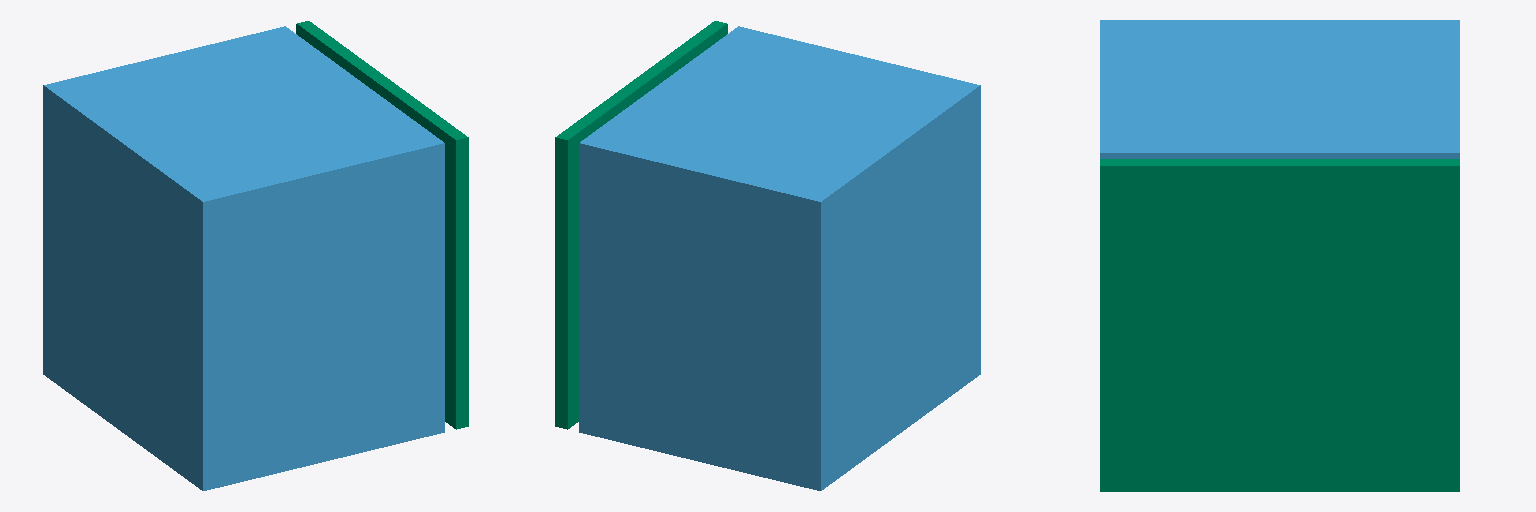
URDF robot description (my_cabinet):
<robot name="my_cabinet">

  <link name="world" />
  <joint name="virtual_joint" type="fixed">
    <parent link="world" />
    <child link = "base_door_link" />
    <origin xyz="0.0 0.0 0.0" rpy="0.0 0.0 0.0" />
  </joint>

  <link name="base_door_link">
    <inertial>
      <mass value="1.0" />
      <inertia  ixx="1.0" ixy="0.0"  ixz="0.0"  iyy="100.0"  iyz="0.0"  izz="1.0" />
    </inertial>
    <visual>
      <geometry>
        <box size="0.35 0.4 0.4" />
      </geometry>
    </visual>
  </link>

  <link name="door_link">
    <inertial>
      <mass value="0.2" />
      <inertia  ixx="1.0" ixy="0.0"  ixz="0.0"  iyy="100.0"  iyz="0.0"  izz="1.0" />
    </inertial>
    <visual>
  		<origin xyz="0.0 0.2 0"/>
      <geometry>
        <box size="0.018 0.4 0.4" />
      </geometry>
    </visual>
    <collision>
  		<origin xyz="0.0 0.2 0"/>
      <geometry>
        <box size="0.018 0.4 0.4" />
      </geometry>
    </collision>
  </link>

	<joint name="joint_0" type="revolute">
		<origin xyz="0.2 -0.2 0"/>
		<axis xyz="0 0 1"/>
		<parent link="base_door_link"/>
		<child link="door_link"/>
		<limit effort="100" lower="-3.14" upper="0" velocity="100" />
	</joint>


  <gazebo reference="my_cabinet">
    <material>Gazebo/Blue</material>
  </gazebo>
</robot>

--- What the picture shows (computed from the rendered views, not written in the file) ---
The picture shows the robot from 3 angles, left to right: view 1: azimuth 30°, elevation 25°; view 2: azimuth 150°, elevation 25°; view 3: azimuth 270°, elevation 25°; orthographic projection.
Robot: my_cabinet — 3 links, 2 joints (1 revolute, 1 fixed); root link world; default pose: all joints at 0.
Visible links, largest first — view 1: base_door_link, door_link; view 2: base_door_link, door_link; view 3: door_link, base_door_link.
Boxes of the visible links, bbox=[...] form: base_door_link: bbox=[43, 26, 444, 490]; door_link: bbox=[296, 21, 468, 429]; base_door_link: bbox=[579, 26, 980, 490]; door_link: bbox=[555, 21, 727, 429]; door_link: bbox=[1100, 159, 1459, 491]; base_door_link: bbox=[1100, 20, 1459, 158].
Bounding box of the posed robot: 0.384 × 0.4 × 0.4 m (x, y, z).
Geometry: primitives only (box / cylinder / sphere), no mesh files.